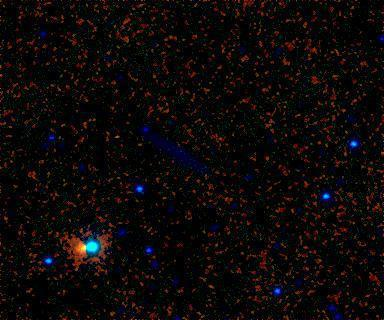star: (67, 234, 97, 264)
